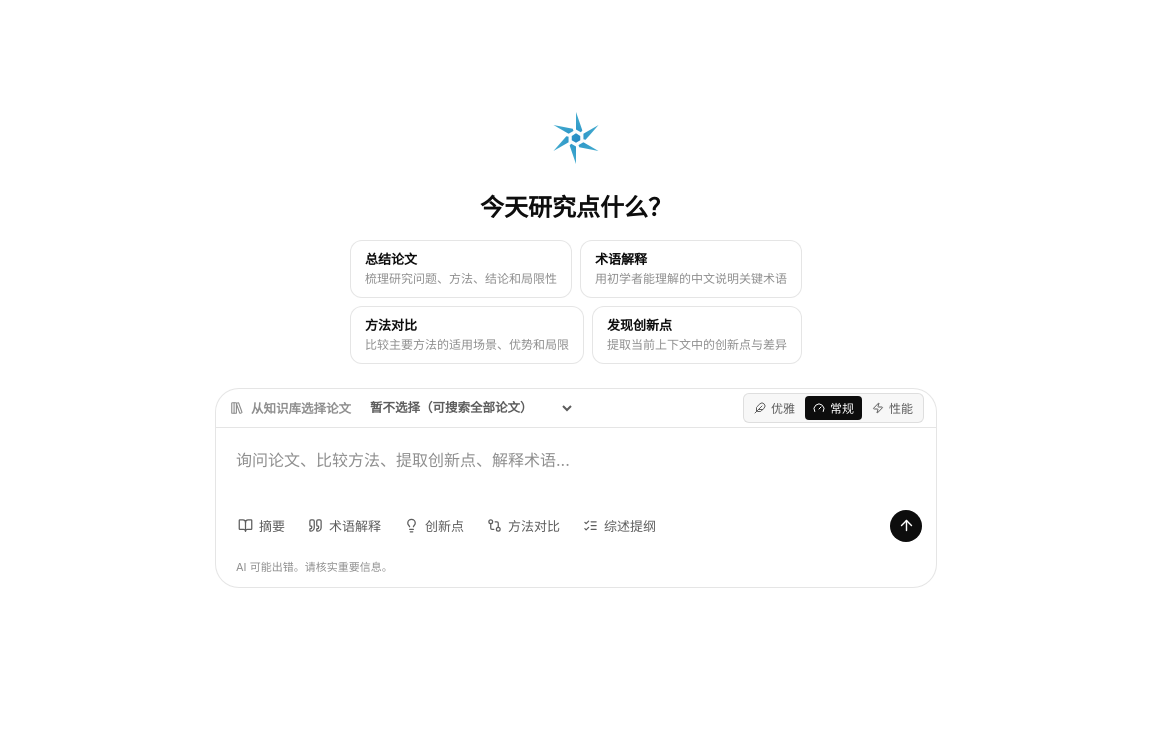
Test case: ChatPage › renders assistant Markdown as structured content
In the text box with placeholder "询问论文、比较方法、提取创新点、解释术语...": (576, 469) x1=216 y1=428 x2=936 y2=510, type "总结 RAG 的核心思路"
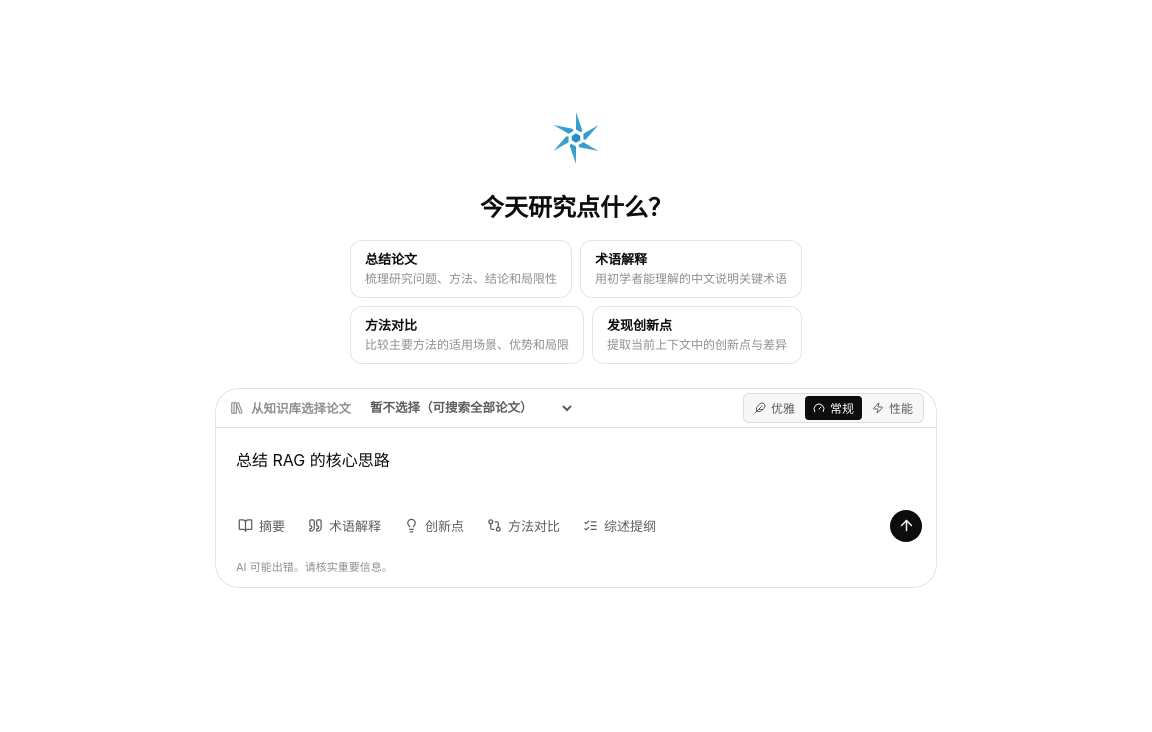
Click the button named "发送": (906, 526) x1=890 y1=510 x2=922 y2=542
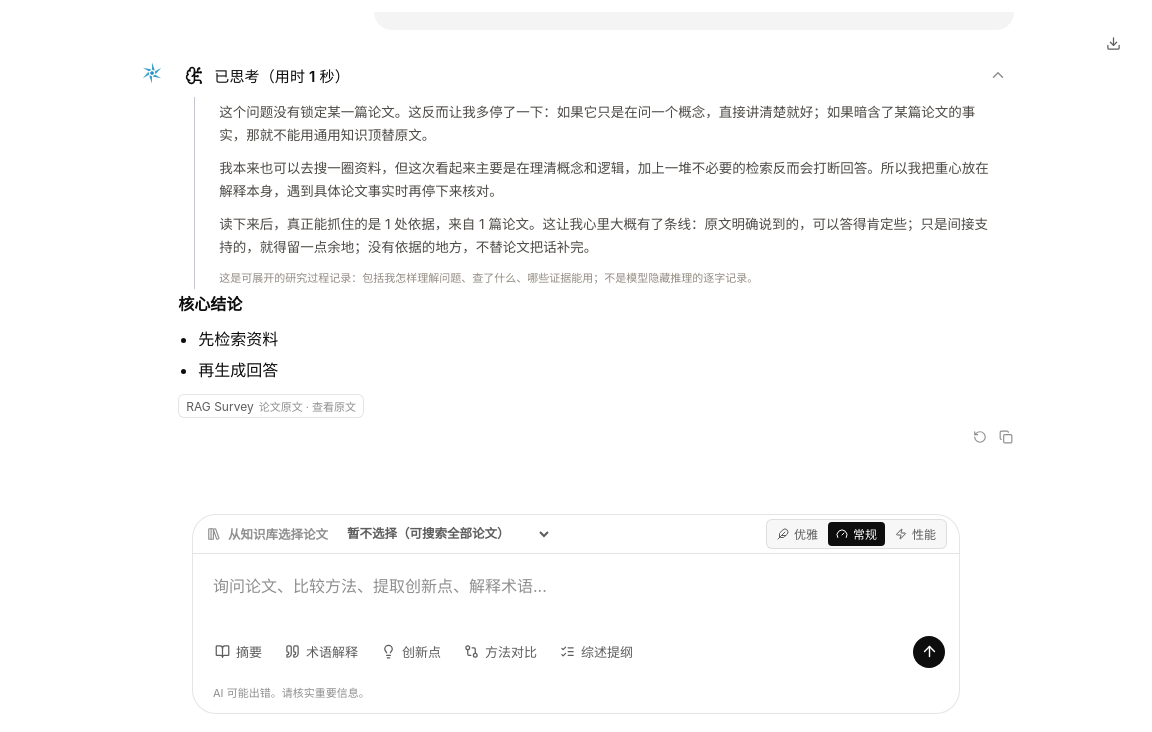
expect the text "核心结论" is shown: met, box x1=178 y1=294 x2=242 y2=314
